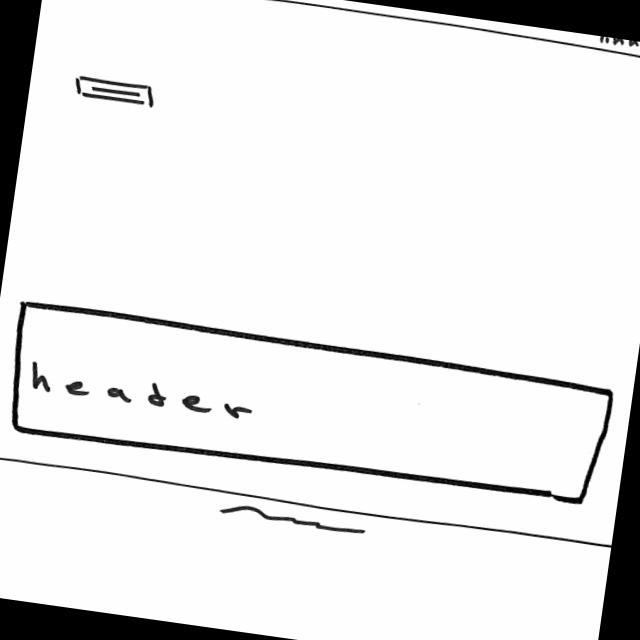container: (2, 298, 618, 513), (45, 0, 640, 64)
icon-button: (68, 74, 160, 110)
label: (24, 360, 254, 422), (592, 35, 640, 50)
text: (220, 502, 370, 540)
